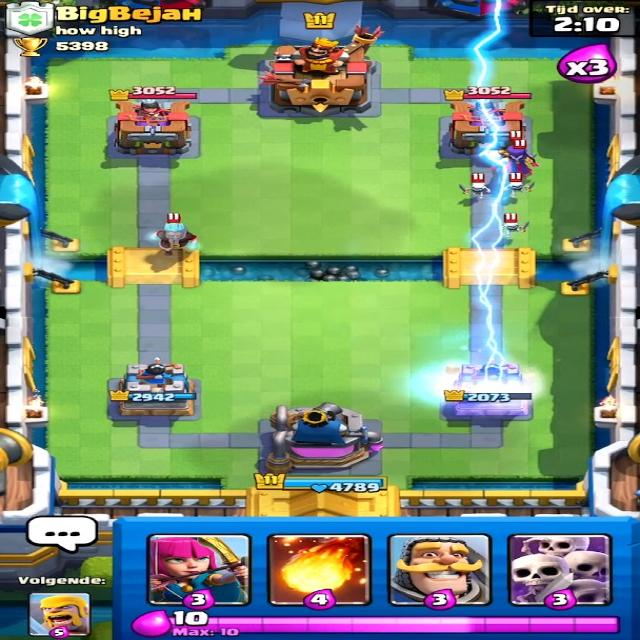Enemy_Ice_Wizard_Troop: (155, 213, 205, 262)
Enemy_Skeleton_Troop: (461, 178, 488, 199), (503, 179, 532, 198), (503, 222, 527, 236)
Enemy_Witch_Troop: (495, 144, 540, 182)
Fireball_Card: (264, 534, 370, 604)
